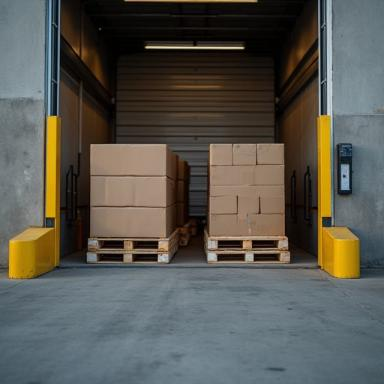pallet: (88, 228, 179, 251), (87, 242, 178, 264), (204, 228, 288, 250), (204, 243, 290, 264), (134, 241, 158, 248), (102, 241, 124, 247), (217, 254, 241, 259), (254, 254, 275, 257)
